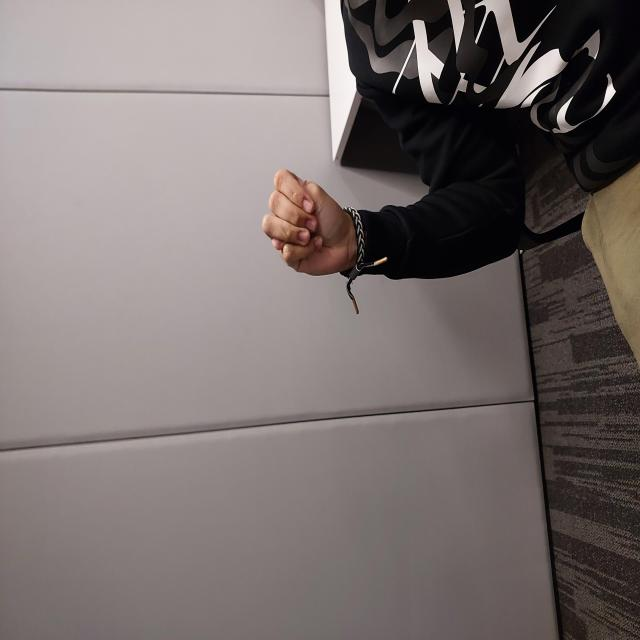M: (364, 260, 471, 351)
